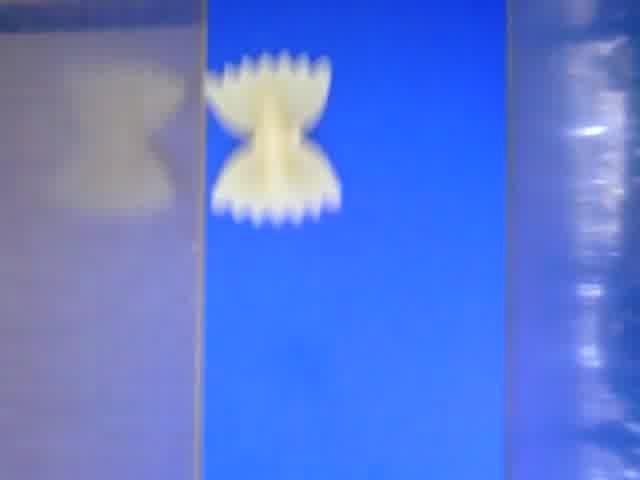farfalle: (203, 53, 343, 223)
